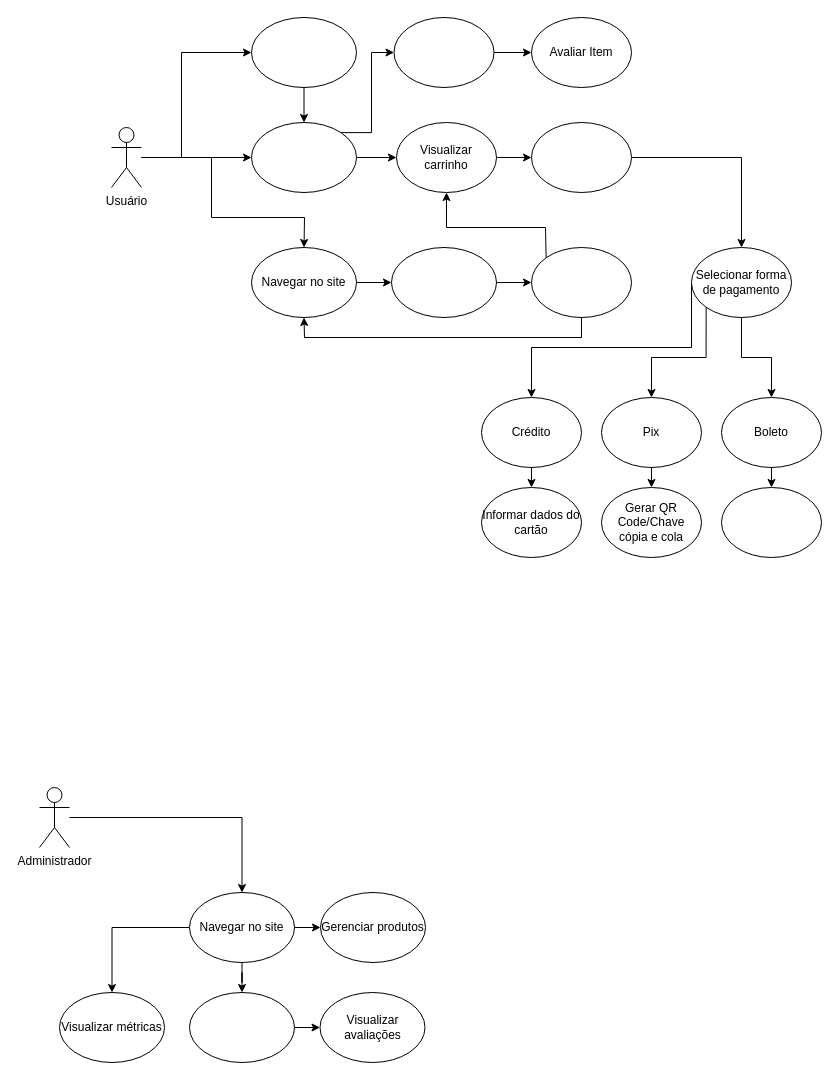
This 839x1080 diagram has some shape labels left out. Each missing label, with the centre of its shape:
"Acessar conta" goes at point (303, 157).
"Colocar item no carrinho" goes at point (581, 282).
"Comprar itens" goes at point (581, 157).
"Criar conta" goes at point (303, 52).
"Gerar Boleto" goes at point (771, 522).
"Visualizar item" goes at point (443, 282).
"Visualizar Pedidos" goes at point (443, 52).
"Visualizar produtos" goes at point (241, 1027).
